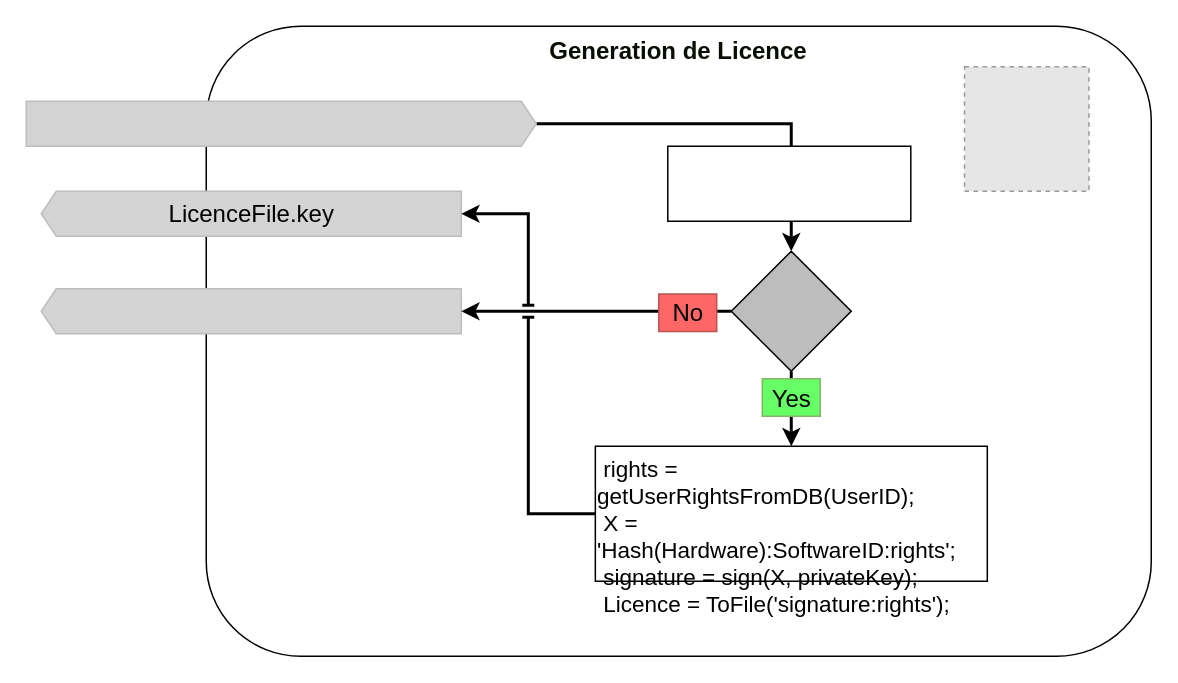
Some shapes in this 1178 by 683 pixel diagram are drawn without their labels. Grey dashed boxes stand in for pictures. Each missing label, with the centre of its shape:
"ErrorMsg" goes at (250,310).
"isUserCredentialsValid (UserID, UserMdp)" goes at (788,183).
"UserID:UserMdp:Hash(Hardware):SoftwareID" goes at (280,123).
